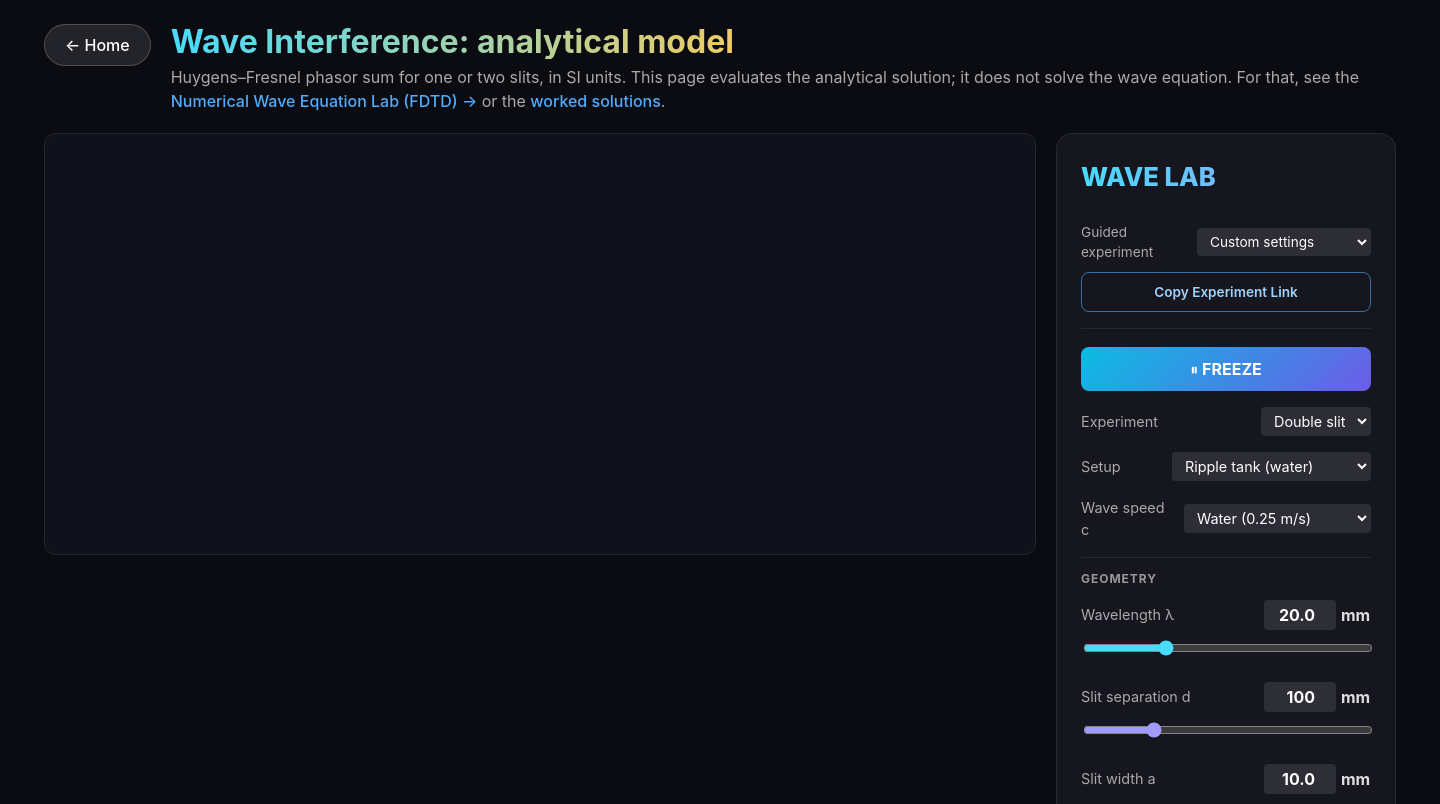
Test: Wave Interference (analytical) › switching to single slit hides the separation and phase controls
Expected: the slider labelled "Slit separation d" is shown, x1=1083 y1=722 x2=1373 y2=738
Select "Single slit" in the dropdown labelled "Experiment" at coordinates (1316, 422), box x1=1261 y1=407 x2=1371 y2=436
(page scrolled)
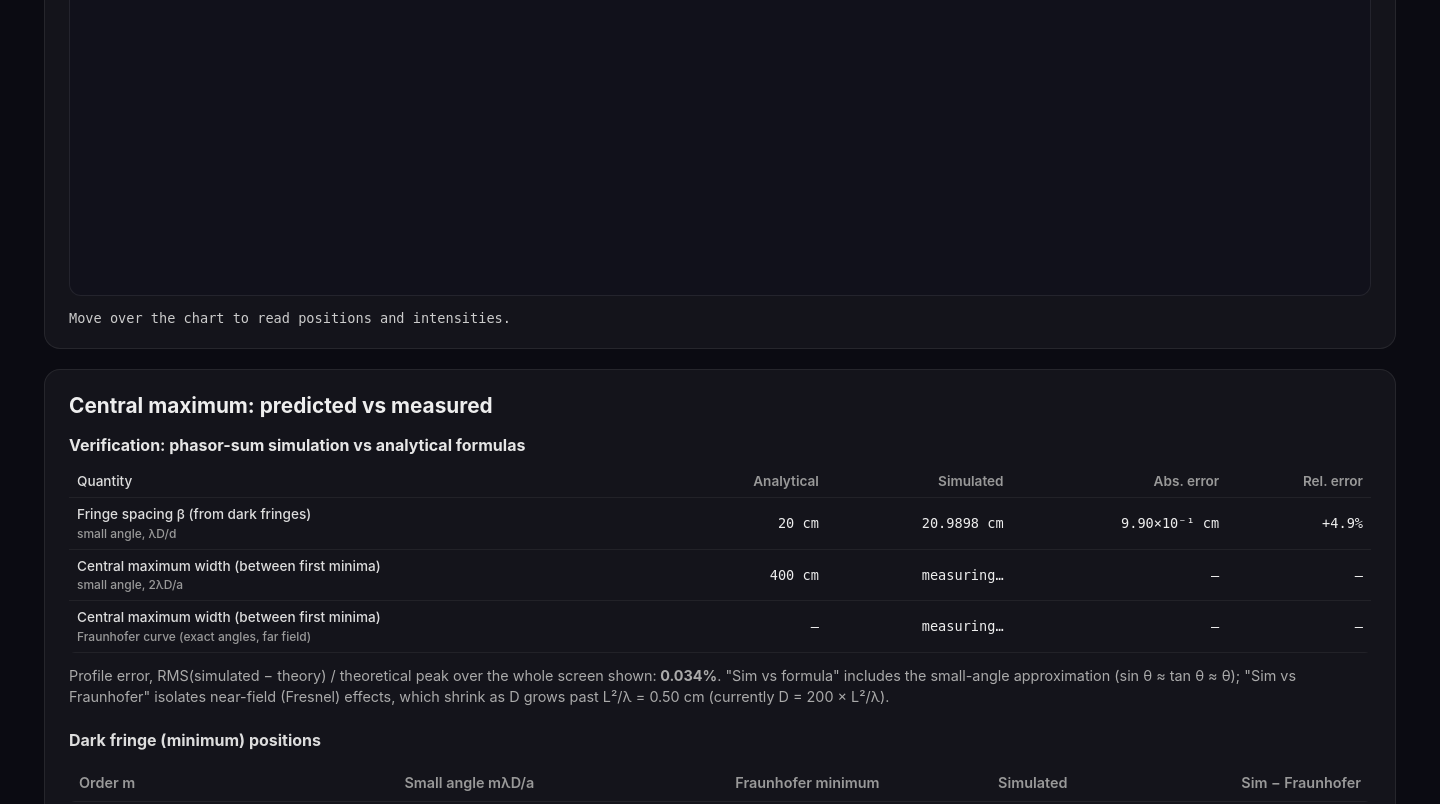
Expected: the slider labelled "slit separation" is not shown
Now the heading "Central maximum: predicted vs measured" is shown, box x1=69 y1=393 x2=493 y2=418
